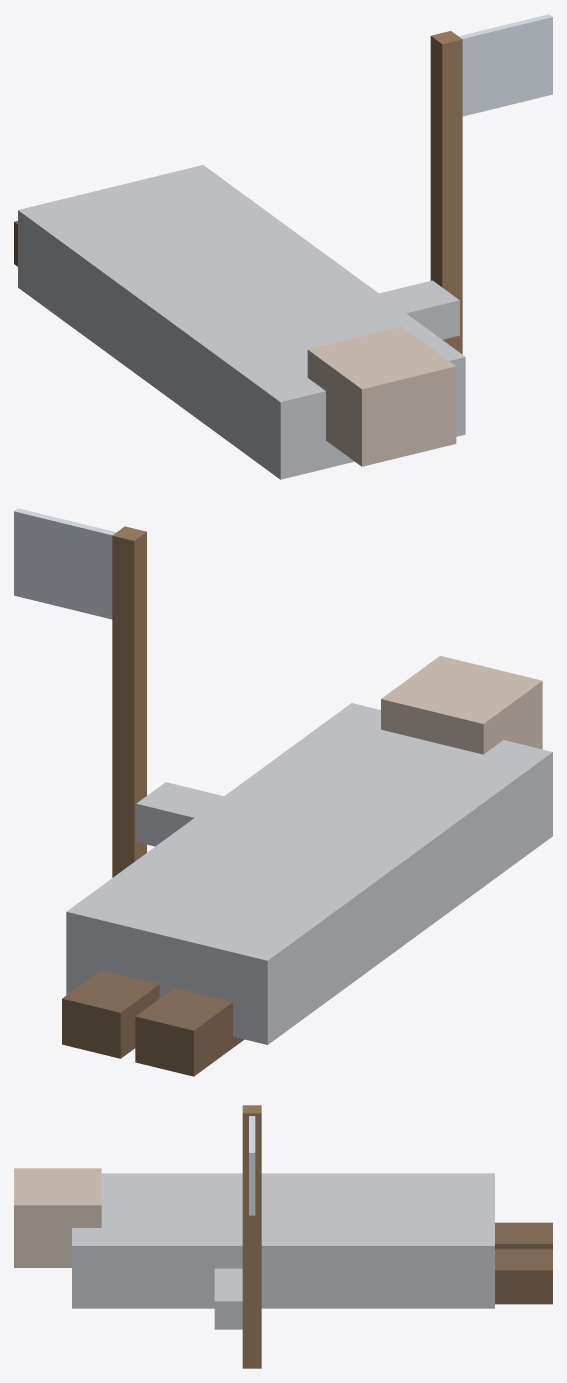
File: corpse.glb
3 renders of one model, top to bottom at view 1: azimuth 30°, elevation 25°; view 2: azimuth 150°, elevation 25°; view 3: azimuth 270°, elevation 25°, orthographic. The views are drawn at different scales.
Visible parts, largest first — view 1: shroud, head, stake, rag, arm; view 2: shroud, boot (×2), head, stake, rag, arm; view 3: shroud, head, boot (×2), stake, arm, rag.
Part boxes in pixels (left/top/right/bottom): shroud: left=18, top=165, right=465, bottom=479; head: left=307, top=326, right=456, bottom=466; stake: left=430, top=31, right=462, bottom=354; rag: left=459, top=14, right=552, bottom=116; arm: left=379, top=280, right=459, bottom=339; shroud: left=66, top=703, right=552, bottom=1044; boot (×2): left=62, top=970, right=244, bottom=1076; head: left=381, top=655, right=542, bottom=754; stake: left=112, top=526, right=146, bottom=877; rag: left=14, top=508, right=116, bottom=619; arm: left=136, top=782, right=223, bottom=846; shroud: left=72, top=1173, right=494, bottom=1308; head: left=14, top=1168, right=101, bottom=1267; boot (×2): left=495, top=1222, right=552, bottom=1304; stake: left=242, top=1105, right=261, bottom=1368; arm: left=214, top=1268, right=242, bottom=1329; rag: left=249, top=1116, right=255, bottom=1215.
Size of the model in its own units: 1.14 by 0.9 by 1.72.
